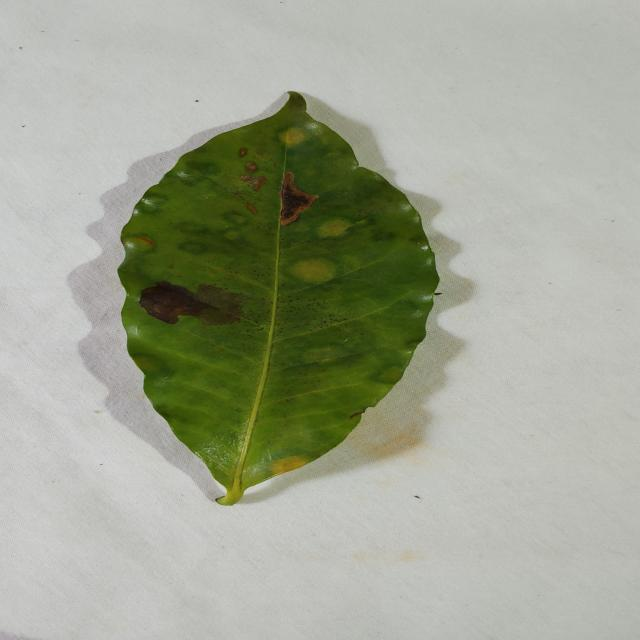Enfermedad-Roya: (117, 93, 441, 507)
